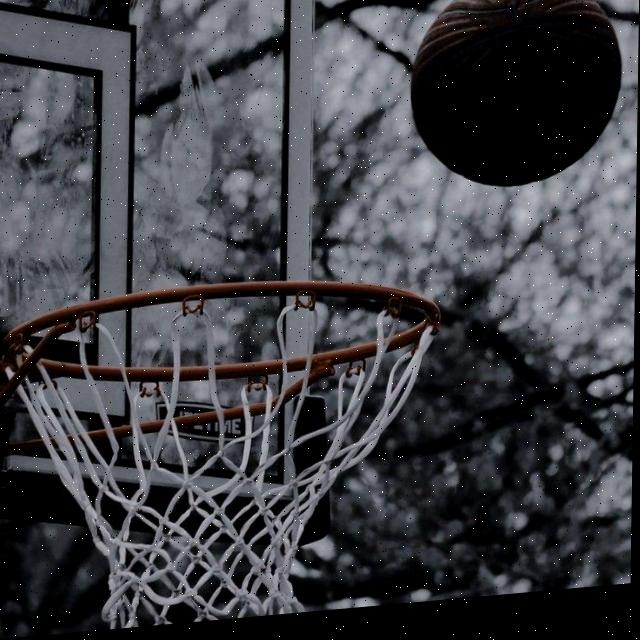hoop: (0, 239, 472, 625)
